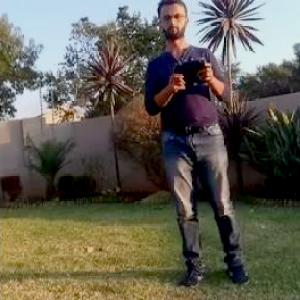follow: (137, 0, 256, 295)
